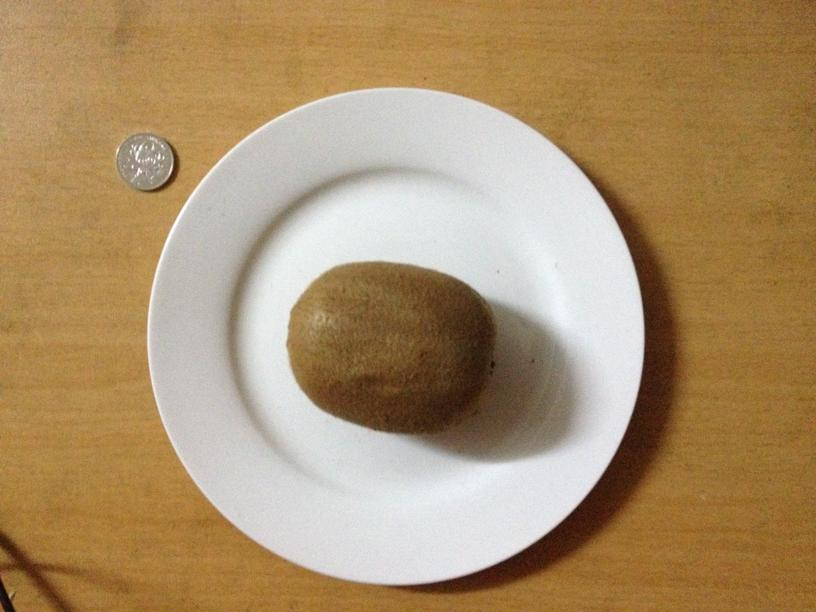coin: (116, 133, 178, 191)
qiwi: (283, 266, 492, 433)
